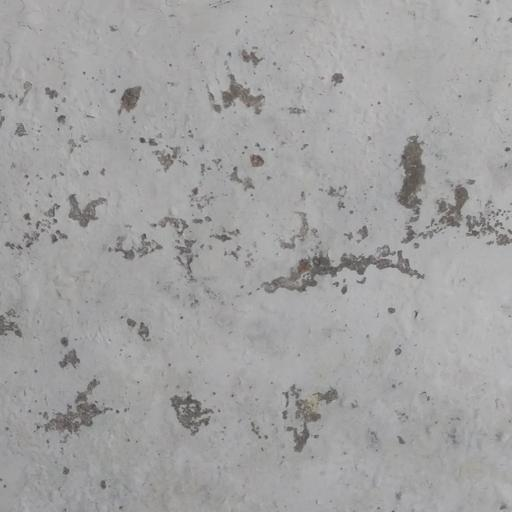peeling: (0, 46, 512, 356), (20, 335, 496, 479)
